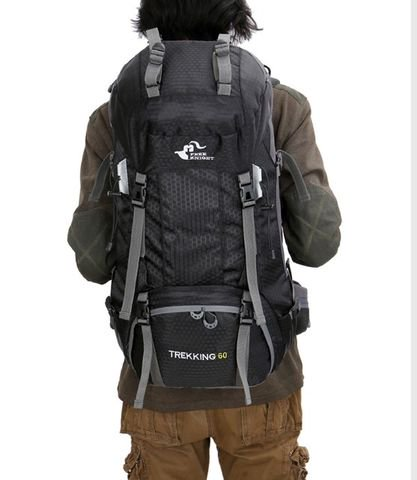backpack: (103, 33, 303, 391)
